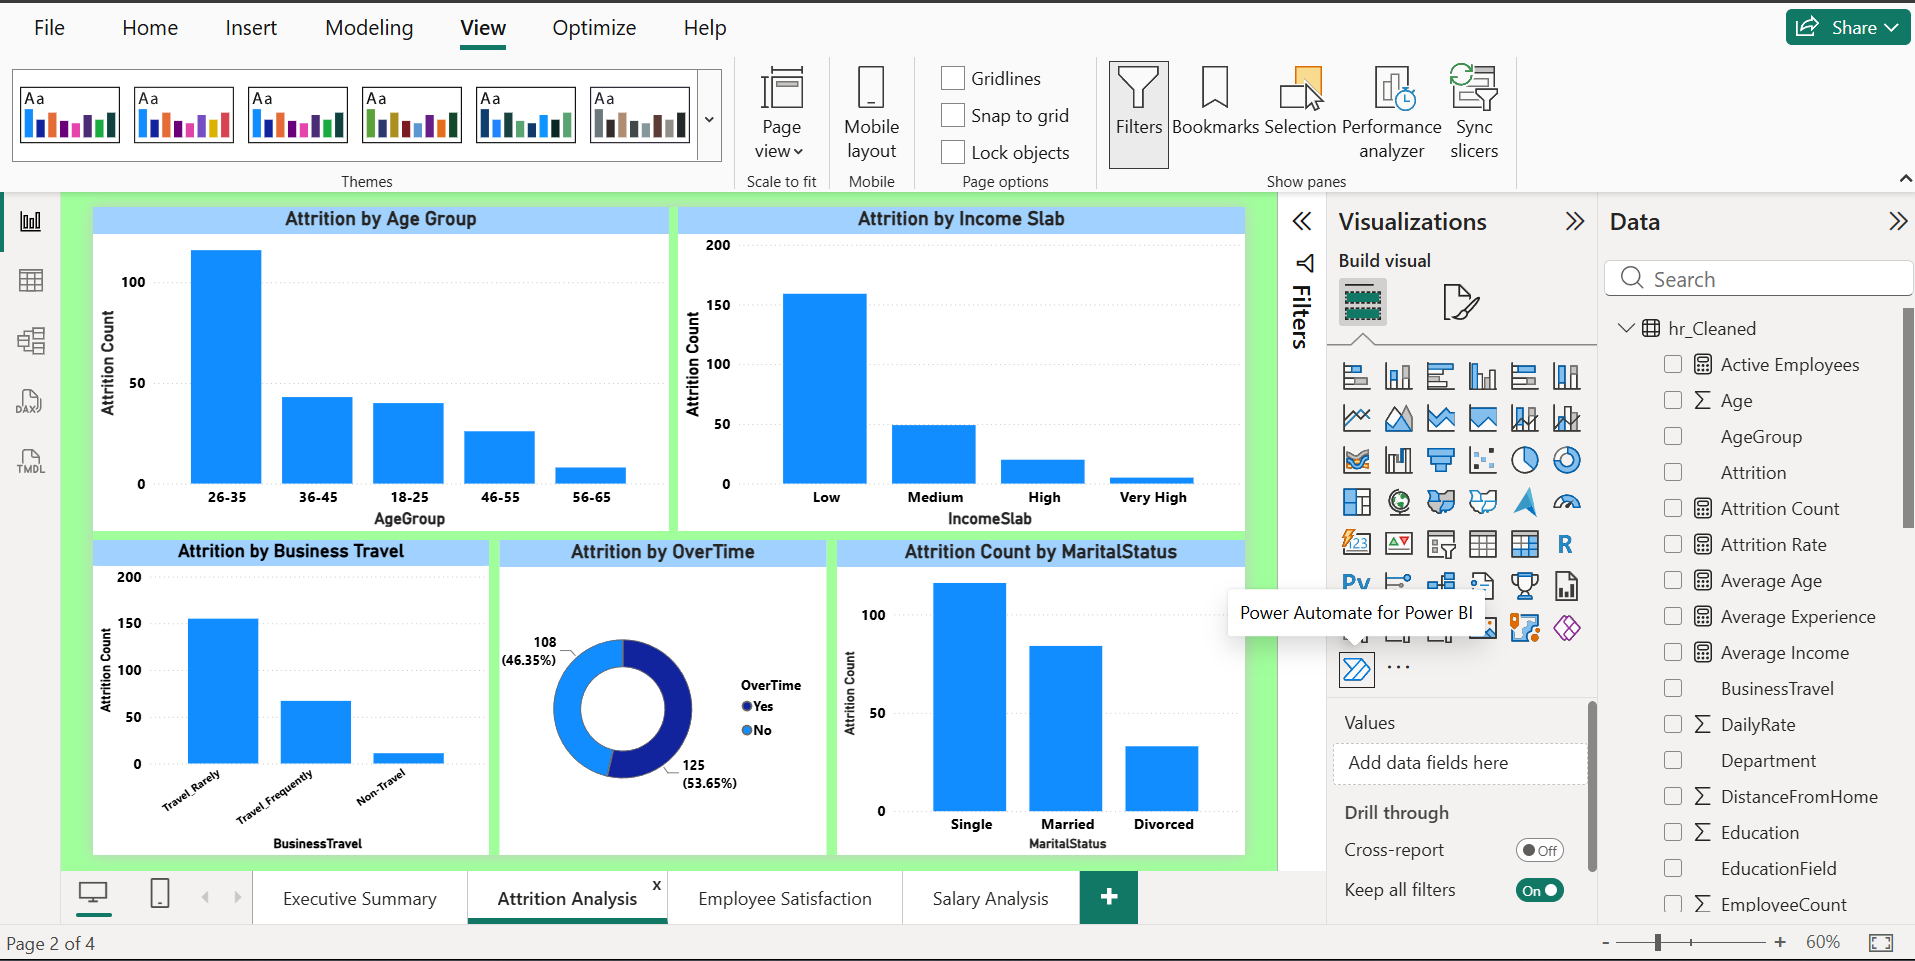

Layout of this report page (visuals, bound fields, positions):
{"tool":"powerbi","page":{"name":"Attrition Analysis","canvas":[1280,720],"ordinal":1},"visuals":[{"type":"columnChart","title":"Attrition by Age Group","fields":{"Category":["hr_Cleaned.AgeGroup"],"Y":["hr_Cleaned.Attrition Count"]},"box":[0,0,640,360],"z":0},{"type":"columnChart","title":"Attrition by Income Slab","fields":{"Category":["hr_Cleaned.IncomeSlab"],"Y":["hr_Cleaned.Attrition Count"]},"box":[650,0,630,360],"z":1000},{"type":"donutChart","title":"Attrition by OverTime","fields":{"Category":["hr_Cleaned.OverTime"],"Y":["hr_Cleaned.Attrition Count"]},"box":[451.7,370,363.3,350],"z":2000},{"type":"columnChart","title":"Attrition by Business Travel","fields":{"Category":["hr_Cleaned.BusinessTravel"],"Y":["hr_Cleaned.Attrition Count"]},"box":[0,370,440,350],"z":3000},{"type":"columnChart","fields":{"Category":["hr_Cleaned.MaritalStatus"],"Y":["hr_Cleaned.Attrition Count"]},"box":[826.7,370,453.3,350],"z":4000}]}

Visuals, with their boxes on the page's 1280x720 design canvas (x1, y1, x2, y2). These are canvas units, not pixel positions in the 1915x961 screenshot, which may show the page scaled, cropped or inside an application window:
"Attrition by Age Group" columnChart: (x1=0, y1=0, x2=640, y2=360)
"Attrition by Income Slab" columnChart: (x1=650, y1=0, x2=1280, y2=360)
"Attrition by OverTime" donutChart: (x1=452, y1=370, x2=815, y2=720)
"Attrition by Business Travel" columnChart: (x1=0, y1=370, x2=440, y2=720)
columnChart - hr_Cleaned.MaritalStatus x hr_Cleaned.Attrition Count: (x1=827, y1=370, x2=1280, y2=720)
